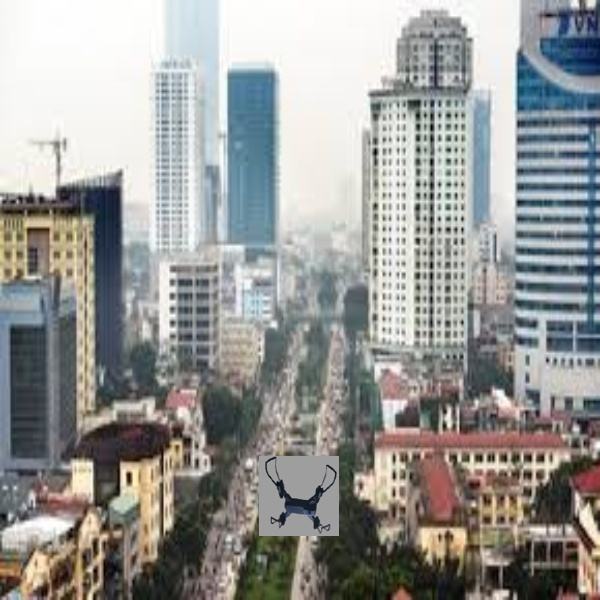drone: (261, 457, 336, 534)
